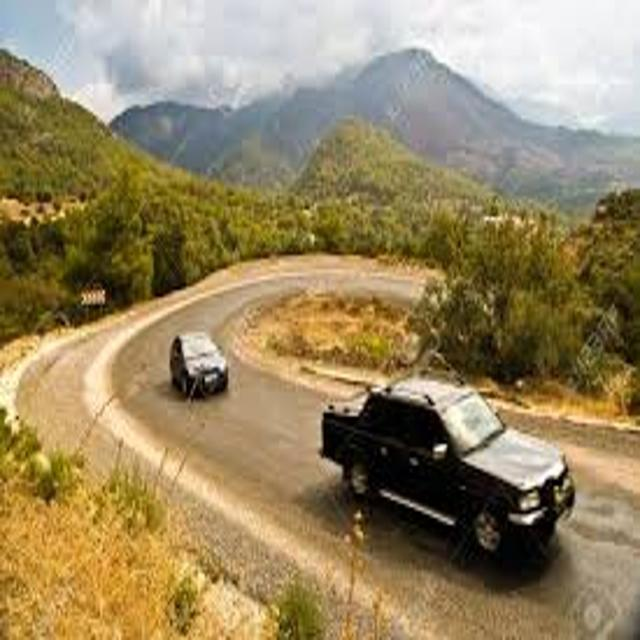car: (322, 379, 577, 555), (170, 332, 230, 393)
